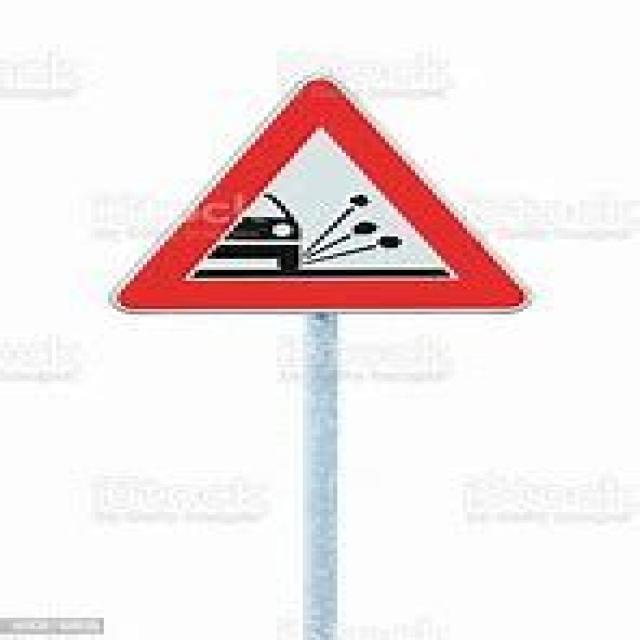LOOSE_GRAVEL: (108, 77, 532, 313)
